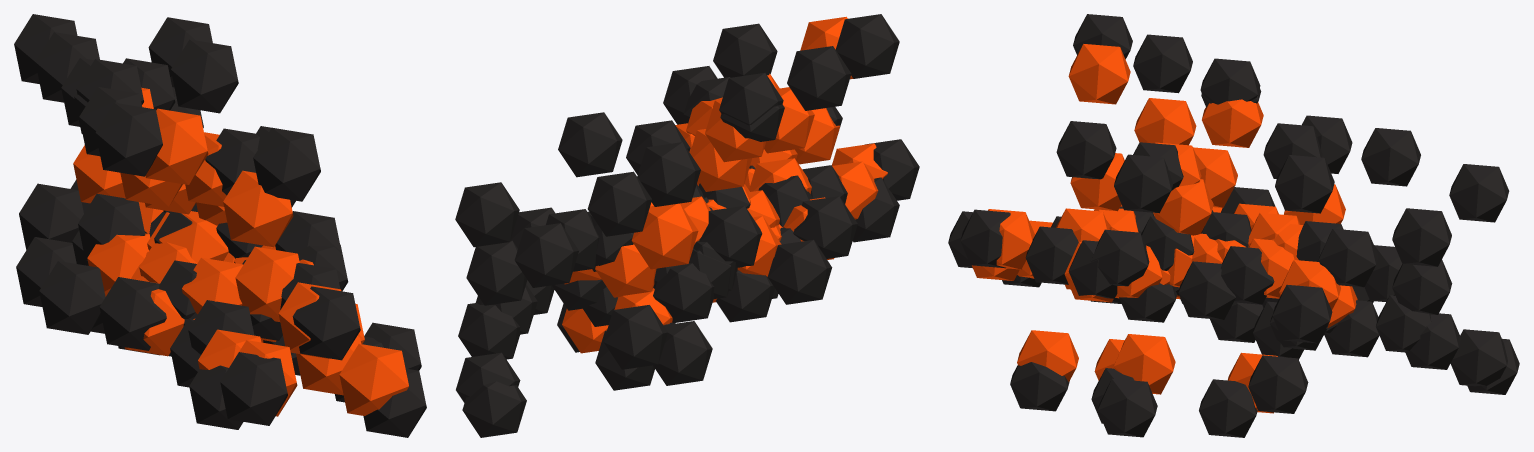
The picture shows the model from 3 angles, left to right: view 1: azimuth 30°, elevation 25°; view 2: azimuth 150°, elevation 25°; view 3: azimuth 270°, elevation 25°; orthographic projection. The views are drawn at different scales.
Visible parts, largest first — view 1: Smoke, FireTrail; view 2: Smoke, FireTrail; view 3: Smoke, FireTrail.
Boxes of the visible parts, x1,y1,x2,y2 form: Smoke: [14, 14, 426, 437]; FireTrail: [73, 87, 408, 416]; Smoke: [455, 14, 919, 437]; FireTrail: [562, 16, 887, 353]; Smoke: [948, 14, 1519, 437]; FireTrail: [972, 44, 1357, 413].
Size of the model in its own units: 29.05 by 30.03 by 48.72.
